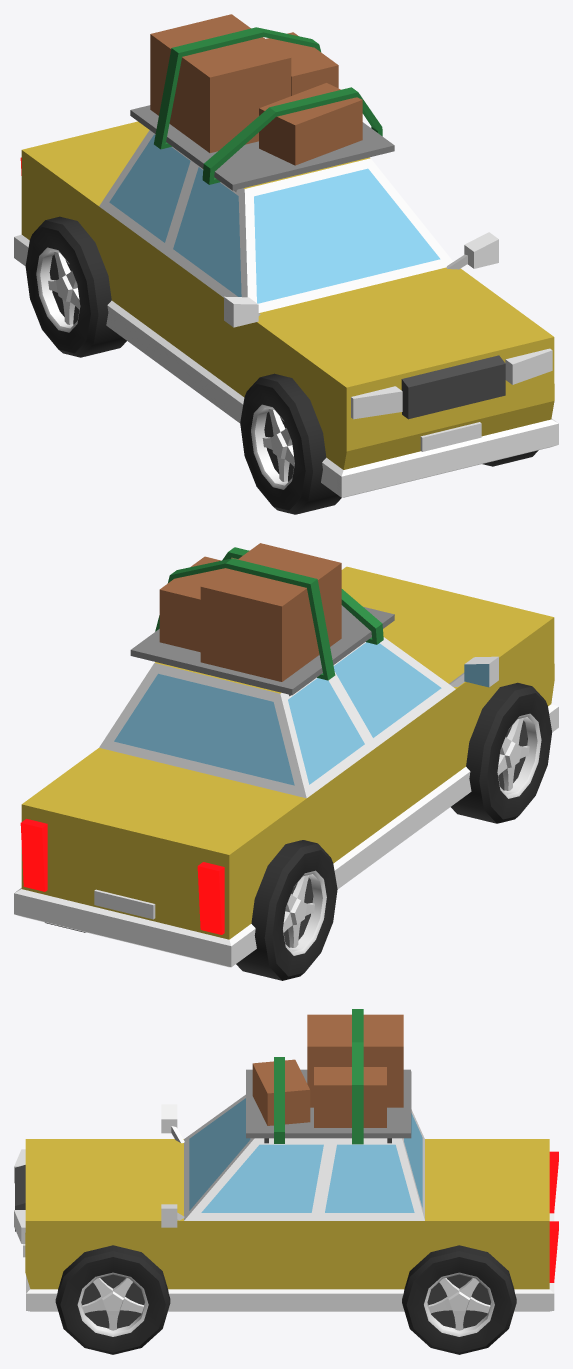
The model's file is Car2.fbx.
3 renders of one model, top to bottom at view 1: azimuth 30°, elevation 25°; view 2: azimuth 150°, elevation 25°; view 3: azimuth 270°, elevation 25°, orthographic. The views are drawn at different scales.
Parts seen in each view (by area): view 1: wheel_standart.002, wheel_standart.011, wheel_standart.010; view 2: wheel_standart.002, wheel_standart.011, wheel_standart.010; view 3: wheel_standart.002, wheel_standart.008, wheel_standart.009.
Boxes of the visible parts, left/top/right/bottom form: wheel_standart.002: left=14, top=14, right=558, bottom=497; wheel_standart.011: left=240, top=373, right=341, bottom=514; wheel_standart.010: left=25, top=216, right=126, bottom=357; wheel_standart.002: left=14, top=543, right=558, bottom=967; wheel_standart.011: left=451, top=682, right=552, bottom=823; wheel_standart.010: left=236, top=840, right=337, bottom=980; wheel_standart.002: left=14, top=1009, right=558, bottom=1311; wheel_standart.008: left=55, top=1245, right=170, bottom=1354; wheel_standart.009: left=402, top=1245, right=516, bottom=1354.
Size of the model in its own units: 545 by 661 by 1201.
